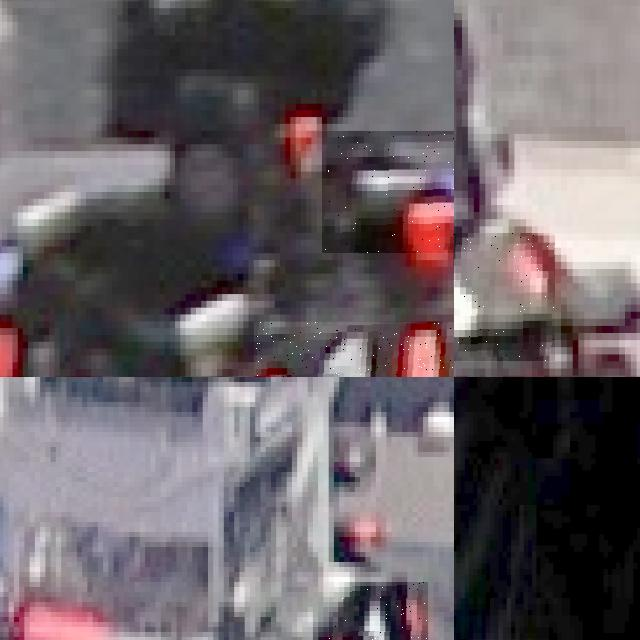R1: (322, 130, 454, 253), (253, 321, 454, 377), (328, 582, 428, 640)
R3: (454, 233, 555, 361)
